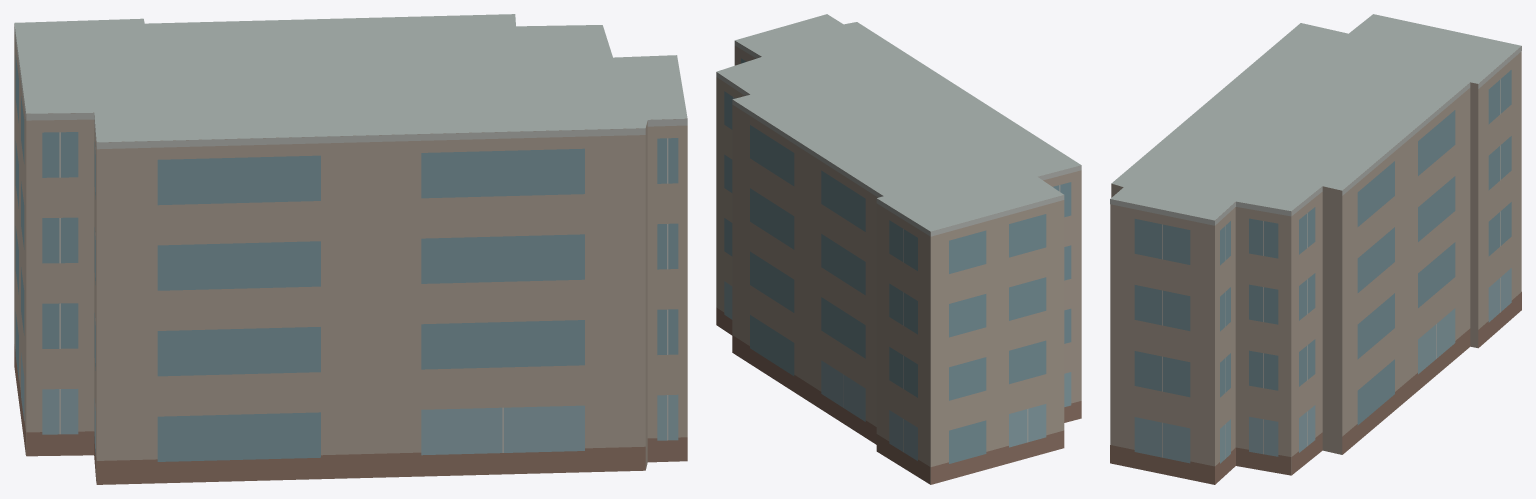
File: survey-upis-32684281.glb
3 renders of one model, left to right at view 1: azimuth 30°, elevation 25°; view 2: azimuth 150°, elevation 25°; view 3: azimuth 270°, elevation 25°, orthographic. The views are drawn at different scales.
Parts seen in each view (by area): view 1: survey-upis-32684281.tmp; view 2: survey-upis-32684281.tmp; view 3: survey-upis-32684281.tmp.
Part boxes in pixels (bbox=[...]): survey-upis-32684281.tmp: bbox=[14, 14, 687, 484]; survey-upis-32684281.tmp: bbox=[716, 14, 1081, 484]; survey-upis-32684281.tmp: bbox=[1110, 14, 1521, 484].
Bounding box in the file's own units: 20.62 × 12.3 × 17.37.
